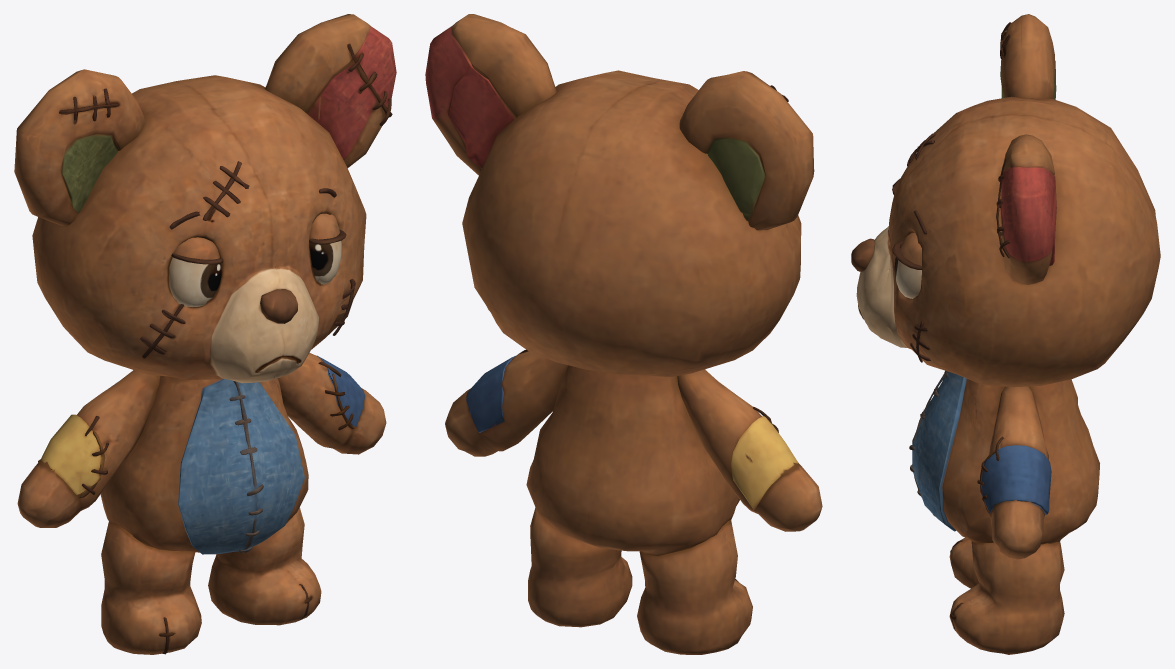
Rendered from stitches_lowpoly_3d.glb.
3 views of the same model, side by side, from view 1: azimuth 30°, elevation 25°; view 2: azimuth 150°, elevation 25°; view 3: azimuth 270°, elevation 25° (orthographic). The views are drawn at different scales.
Parts seen in each view (by area): view 1: geometry_0; view 2: geometry_0; view 3: geometry_0.
Boxes of the visible parts, box(x1,y1,x2,y2) form: geometry_0: box(14, 14, 396, 654); geometry_0: box(425, 14, 822, 654); geometry_0: box(851, 14, 1160, 654).
Bounding box in the file's own units: 0.6533 × 0.9517 × 0.4888.
Materials: 1 (1 with a texture image).
